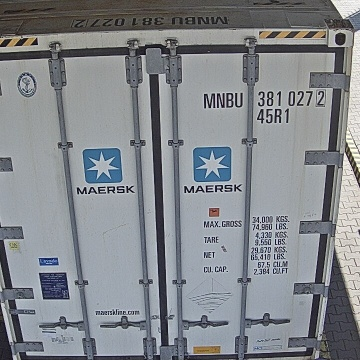serial_id: (204, 90, 326, 108)
